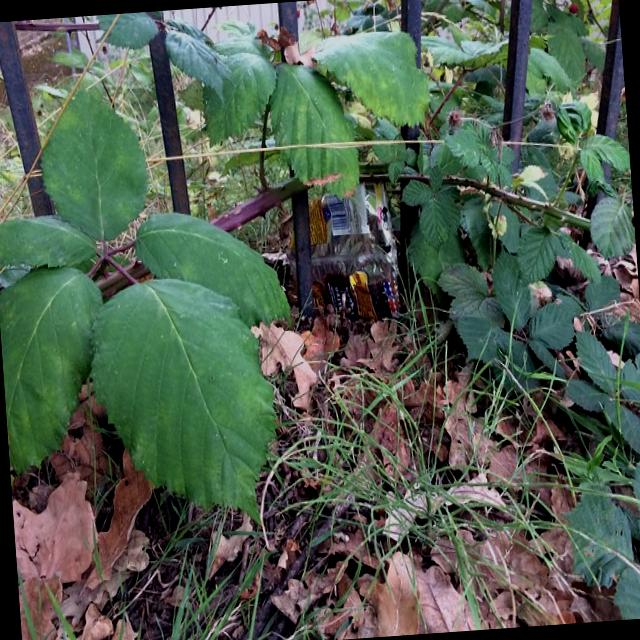Trash: (296, 182, 419, 330)
